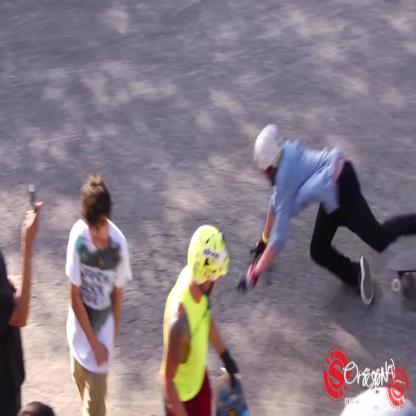Fall_Down: (236, 121, 416, 307)
